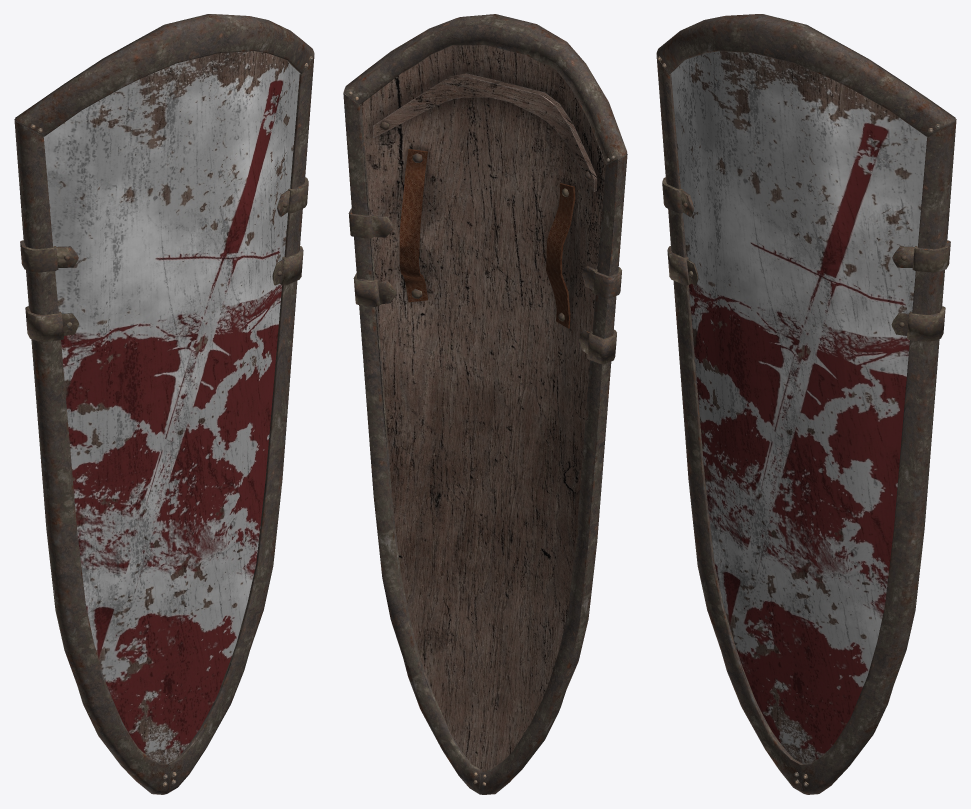
File: kite_shield_nah.gltf
The picture shows the model from 3 angles, left to right: view 1: azimuth 30°, elevation 25°; view 2: azimuth 150°, elevation 25°; view 3: azimuth 330°, elevation 25°; orthographic projection. The views are drawn at different scales.
Parts seen in each view (by area): view 1: kite_shield_nah; view 2: kite_shield_nah; view 3: kite_shield_nah.
Boxes of the visible parts, x1=… form: kite_shield_nah: x1=14, y1=14, x2=314, y2=794; kite_shield_nah: x1=343, y1=14, x2=627, y2=794; kite_shield_nah: x1=656, y1=14, x2=956, y2=794.
Bounding box in the file's own units: 0.5432 × 1.39 × 0.1347.
Materials: 2 (2 with a texture image).
